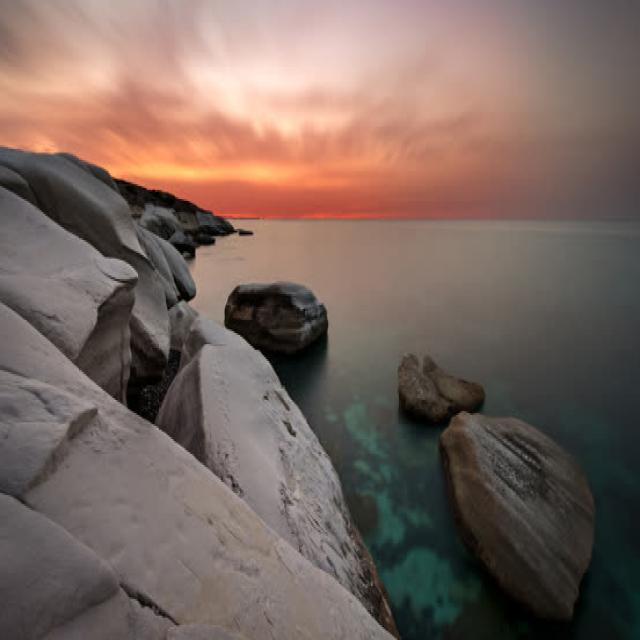reef: (384, 346, 597, 611)
